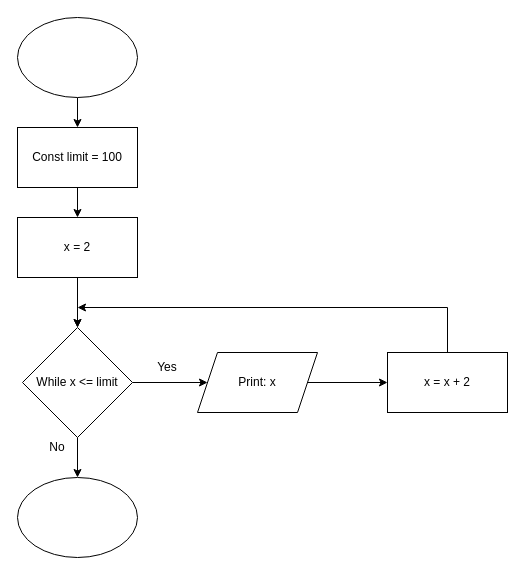
The diagram is 525 pixels wide and 575 high, and some of its shapes have lost their labels. Here are the shapes that lost their labels. From the top down, the centre of each, then its label:
At pixel 77 57: "Start".
At pixel 77 517: "End".
